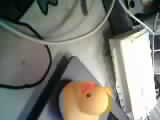duck: (53, 72, 114, 116)
